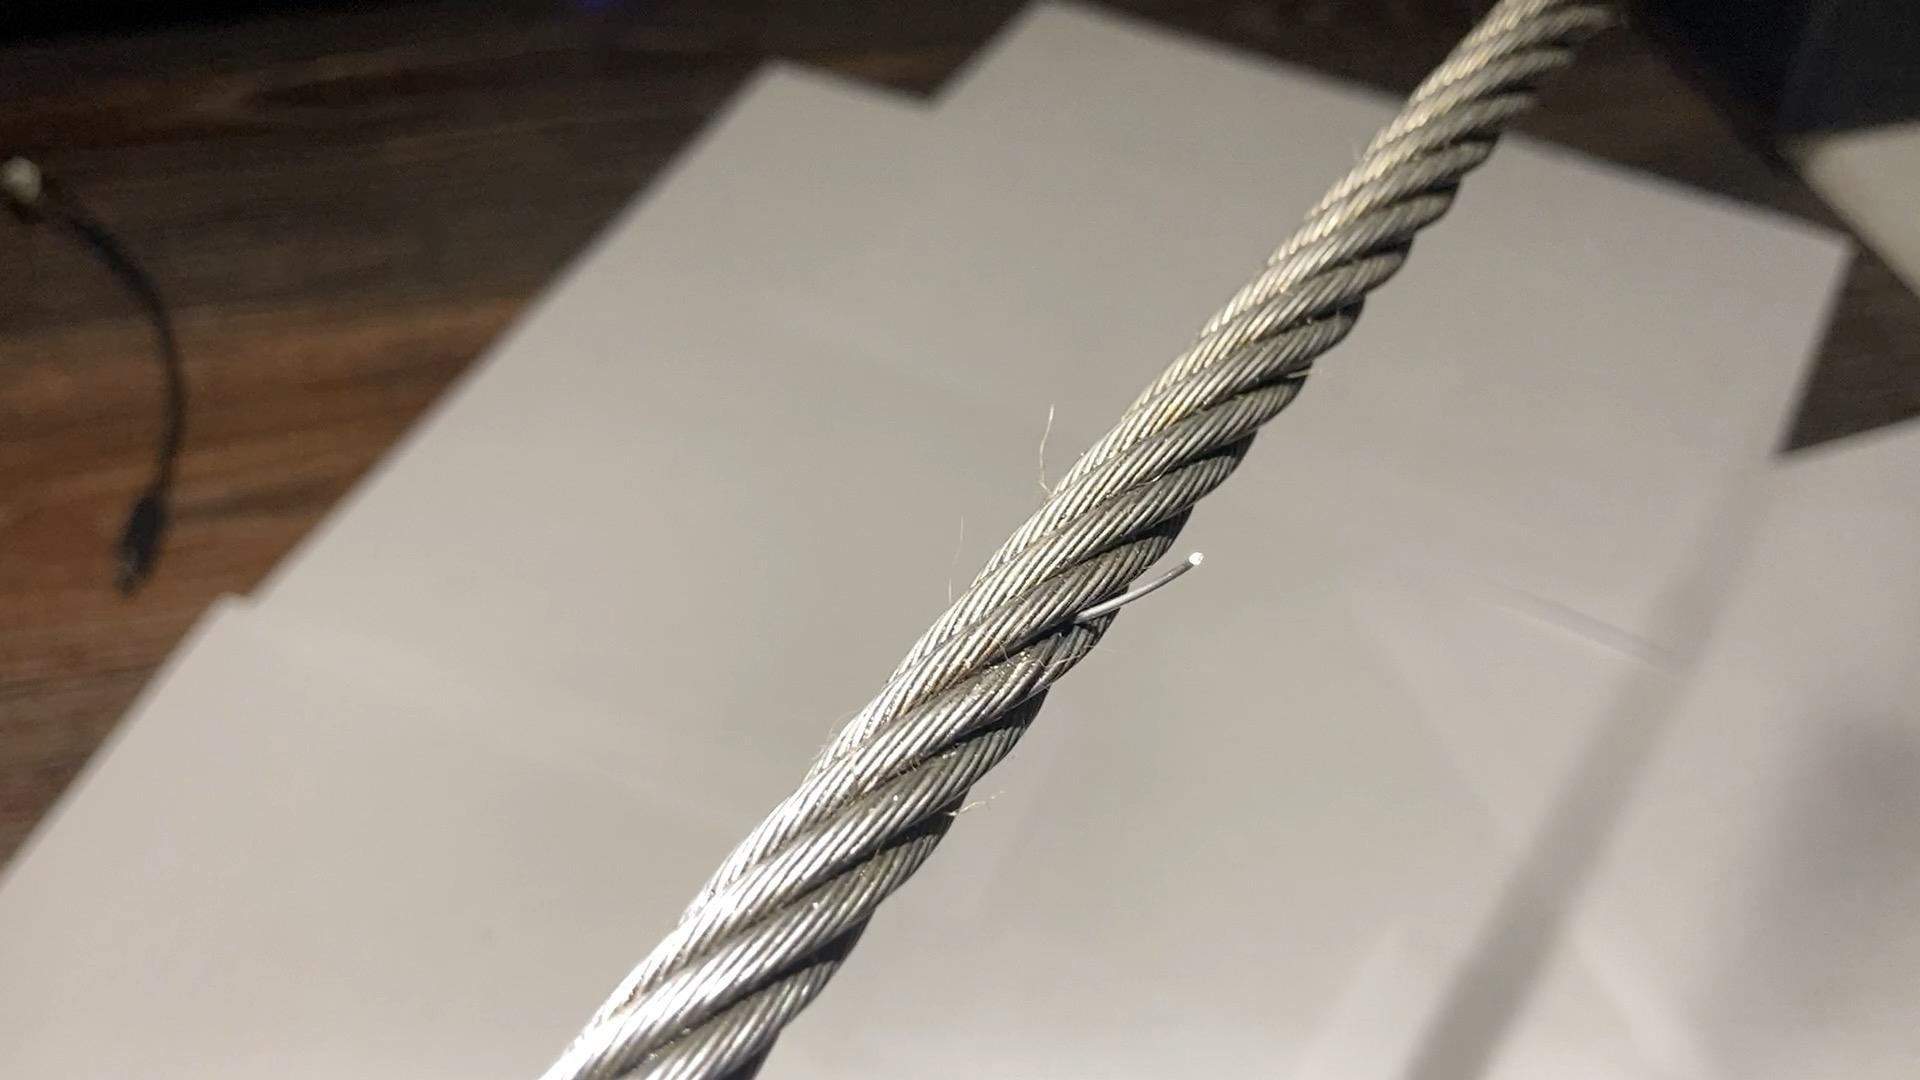break: (1077, 537, 1224, 641)
